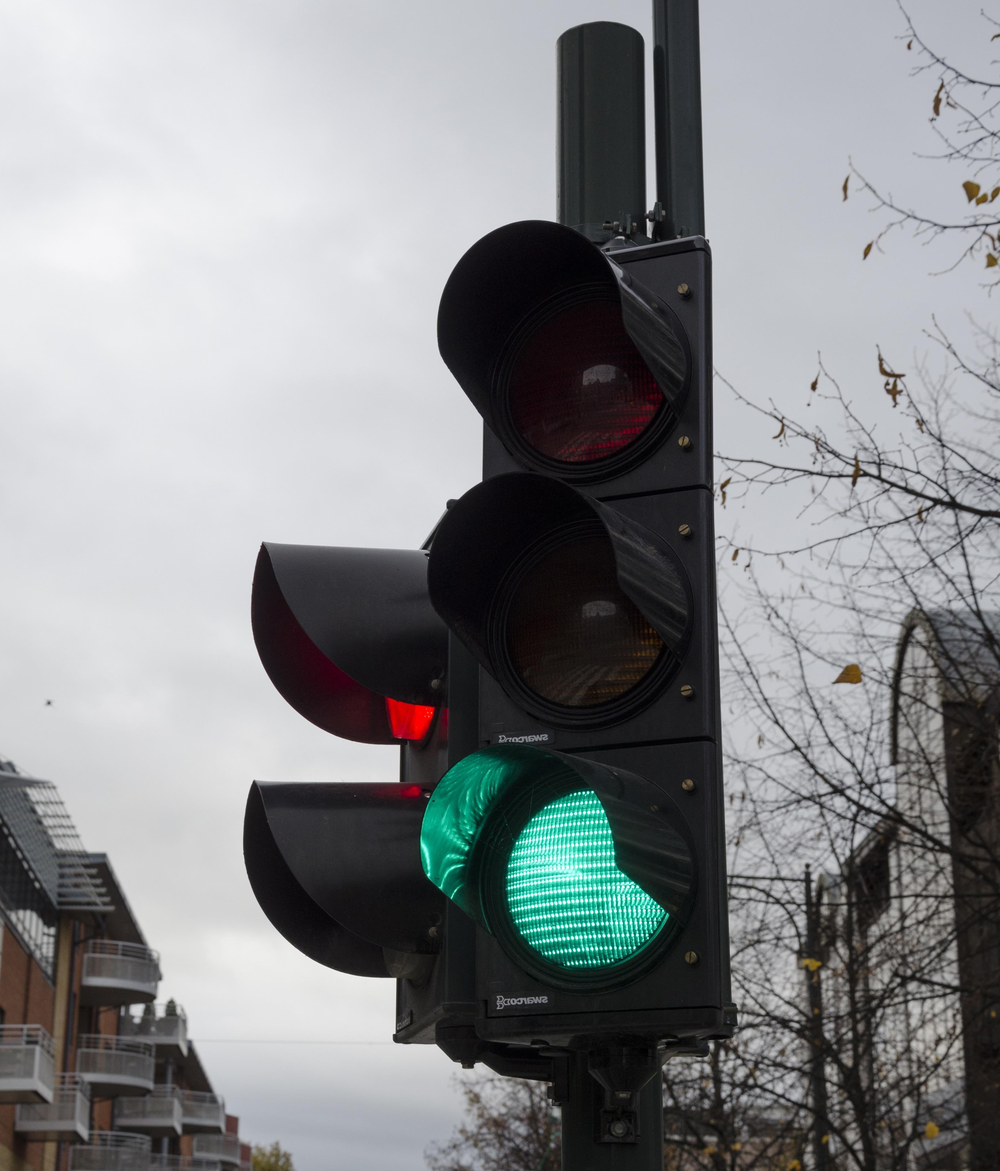green: (404, 233, 769, 1008)
